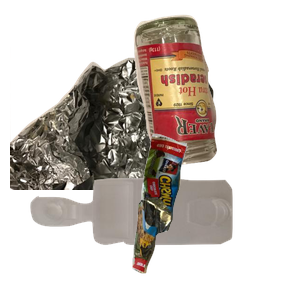glass: (131, 12, 300, 170)
metal: (10, 47, 216, 227)
plastic: (28, 176, 253, 300)
trash: (130, 131, 300, 300)
